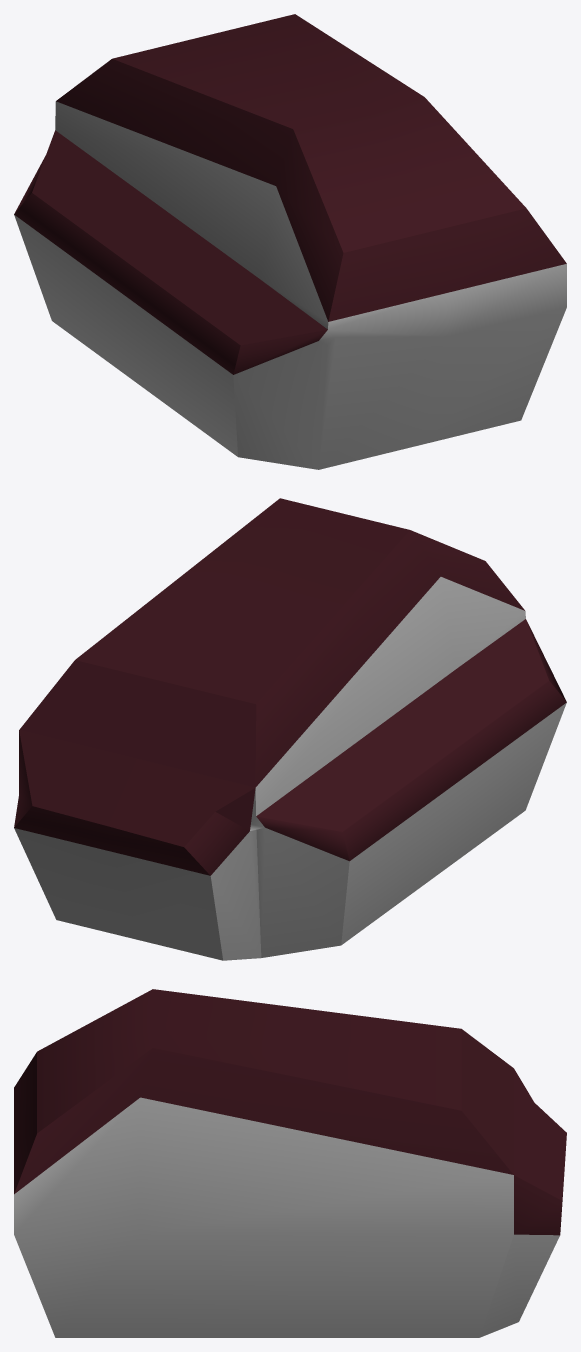
The model's file is Stone4.fbx.
3 views of the same model, one above another, from view 1: azimuth 30°, elevation 25°; view 2: azimuth 150°, elevation 25°; view 3: azimuth 270°, elevation 25° (orthographic). The views are drawn at different scales.
Parts seen in each view (by area): view 1: pCube1; view 2: pCube1; view 3: pCube1.
Part boxes in pixels (x1=…): pCube1: x1=14, y1=14, x2=566, y2=469; pCube1: x1=14, y1=498, x2=566, y2=960; pCube1: x1=14, y1=989, x2=566, y2=1337.
Bounding box in the file's own units: 1.29 × 1.18 × 2.19.
